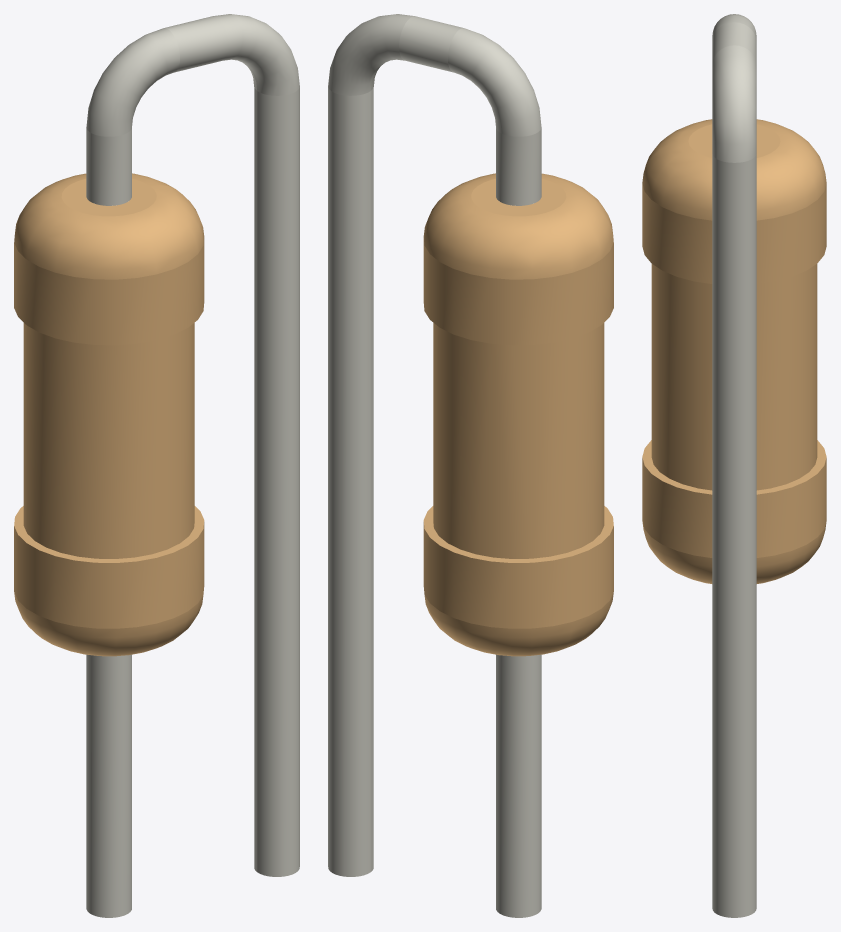
Rendered from kc-r_axial_din0207_l6.3mm_d2.5mm_p2.54mm_vertical.glb.
The picture shows the model from 3 angles, left to right: view 1: azimuth 30°, elevation 25°; view 2: azimuth 150°, elevation 25°; view 3: azimuth 270°, elevation 25°; orthographic projection. The views are drawn at different scales.
Visible parts, largest first — view 1: 0.75_0.5_0.16666666666666666_0.9, 0.6666666666666666_0.6666666666666666_0.5833333333333334_0.8; view 2: 0.75_0.5_0.16666666666666666_0.9, 0.6666666666666666_0.6666666666666666_0.5833333333333334_0.8; view 3: 0.75_0.5_0.16666666666666666_0.9, 0.6666666666666666_0.6666666666666666_0.5833333333333334_0.8.
Part boxes in pixels (x1,y1,x2,y2): 0.75_0.5_0.16666666666666666_0.9: (14, 173, 204, 656); 0.6666666666666666_0.6666666666666666_0.5833333333333334_0.8: (86, 14, 299, 917); 0.75_0.5_0.16666666666666666_0.9: (423, 173, 613, 656); 0.6666666666666666_0.6666666666666666_0.5833333333333334_0.8: (328, 14, 541, 917); 0.75_0.5_0.16666666666666666_0.9: (642, 119, 826, 583); 0.6666666666666666_0.6666666666666666_0.5833333333333334_0.8: (712, 14, 756, 917).
Bounding box in the file's own units: 0.409 × 1.25 × 0.25.
